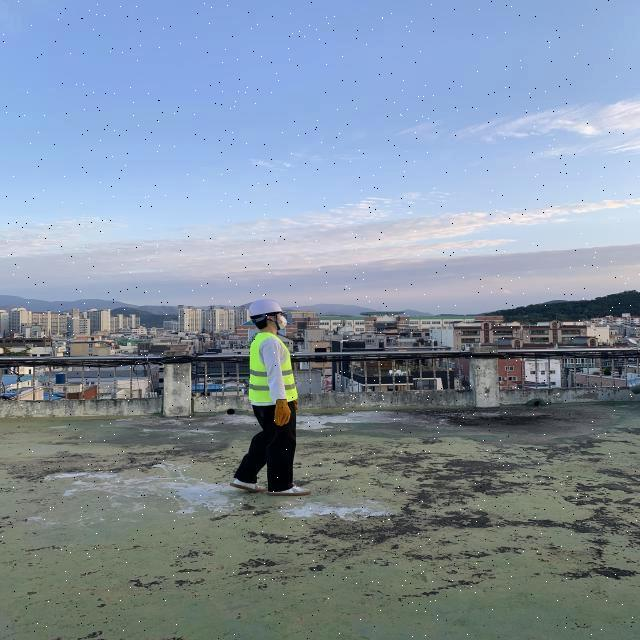Hard_hat: (246, 297, 290, 323)
Person: (222, 299, 298, 498)
Vest: (249, 332, 292, 406)
